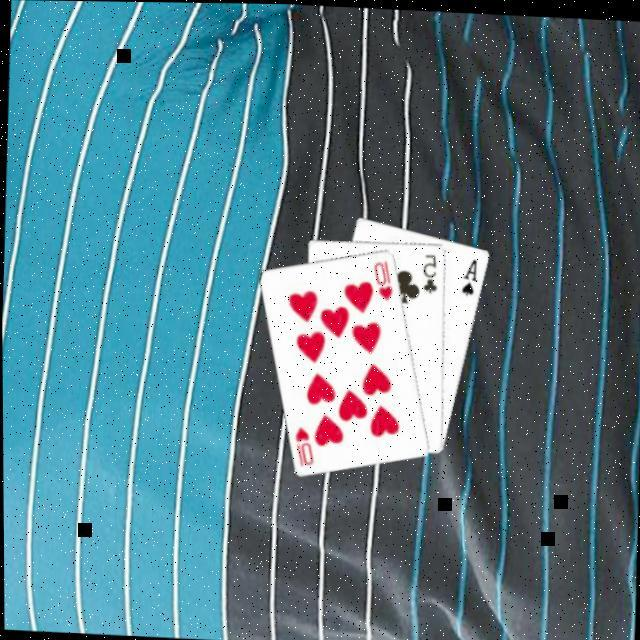10H: (367, 253, 395, 299), (289, 419, 316, 465)
5C: (417, 247, 439, 292)
AS: (456, 250, 480, 295)
